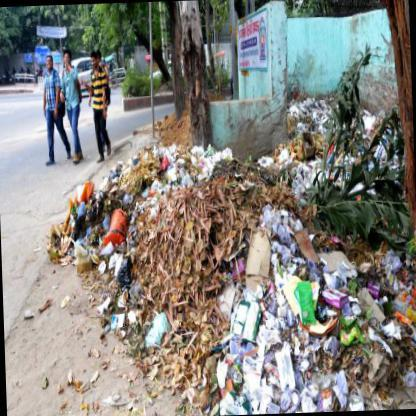Garbage: (268, 262, 373, 376), (197, 316, 280, 416), (373, 260, 415, 386), (243, 217, 318, 283), (45, 178, 102, 248), (298, 354, 366, 412), (152, 140, 230, 182), (70, 220, 126, 278), (278, 125, 314, 157), (284, 93, 318, 122)
